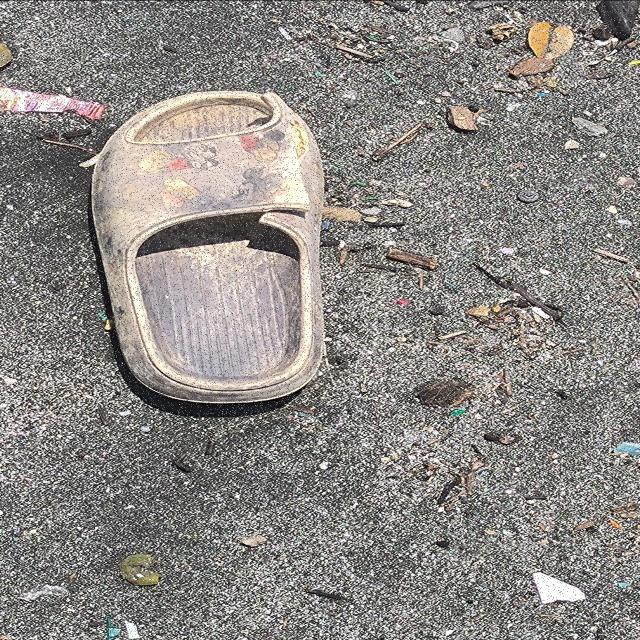rubber_waste: (90, 90, 329, 405)
